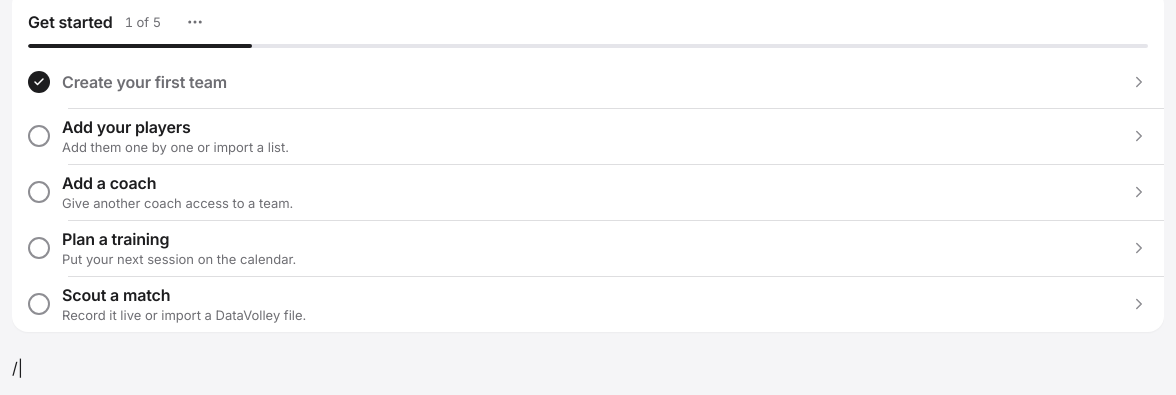
GetStartedCard › Add your players uses the roster action
Click the button "Add your players Add them one by one or import a list." at (126, 127), box [12, 108, 1164, 164]
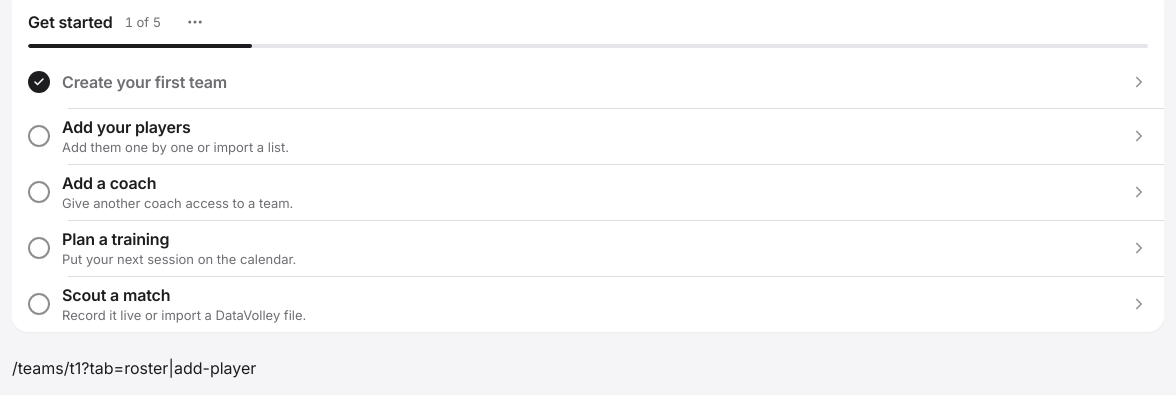
Expected: the text with test id "where" reads "/teams/t1?tab=roster|add-player", [12, 358, 256, 378]
